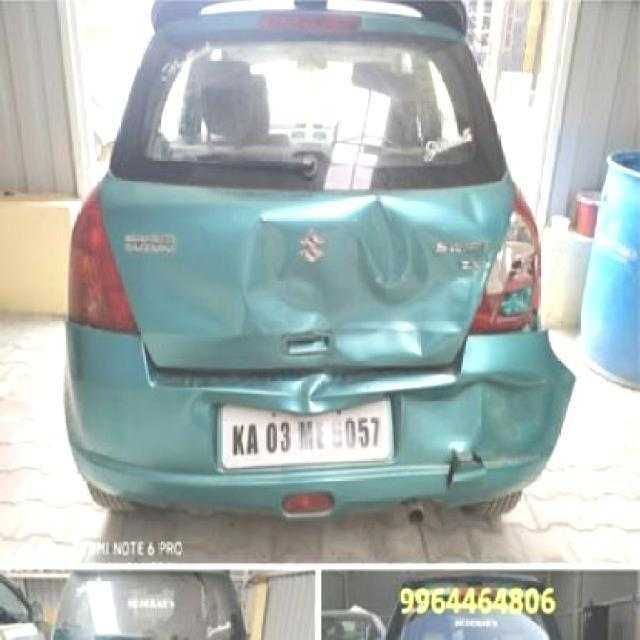minor: (452, 372, 560, 468), (209, 375, 386, 415)
moderate: (242, 185, 511, 371)
